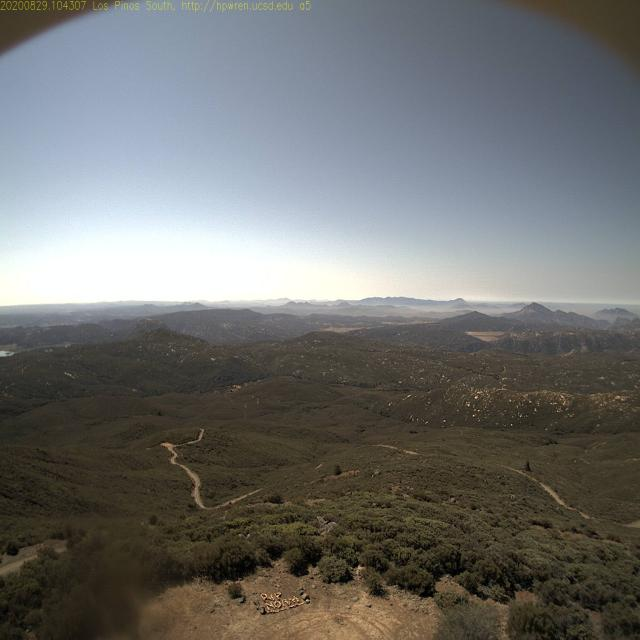smoke: (64, 298, 86, 324)
